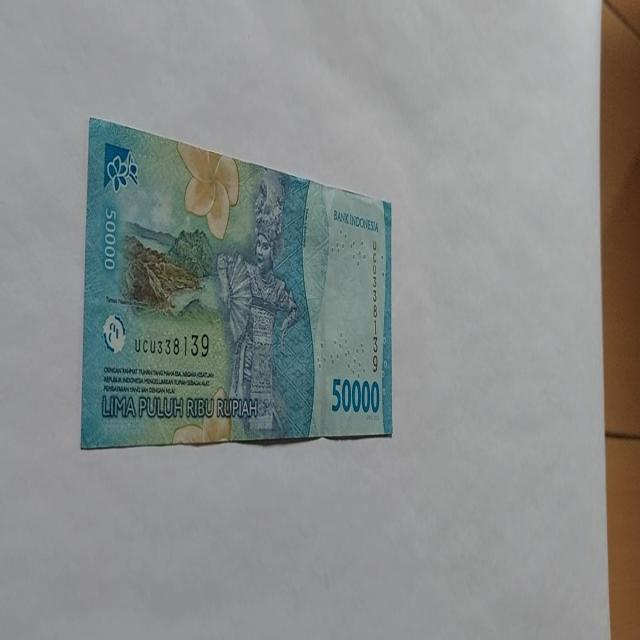lima puluh ribu rupiah: (80, 114, 393, 450)
